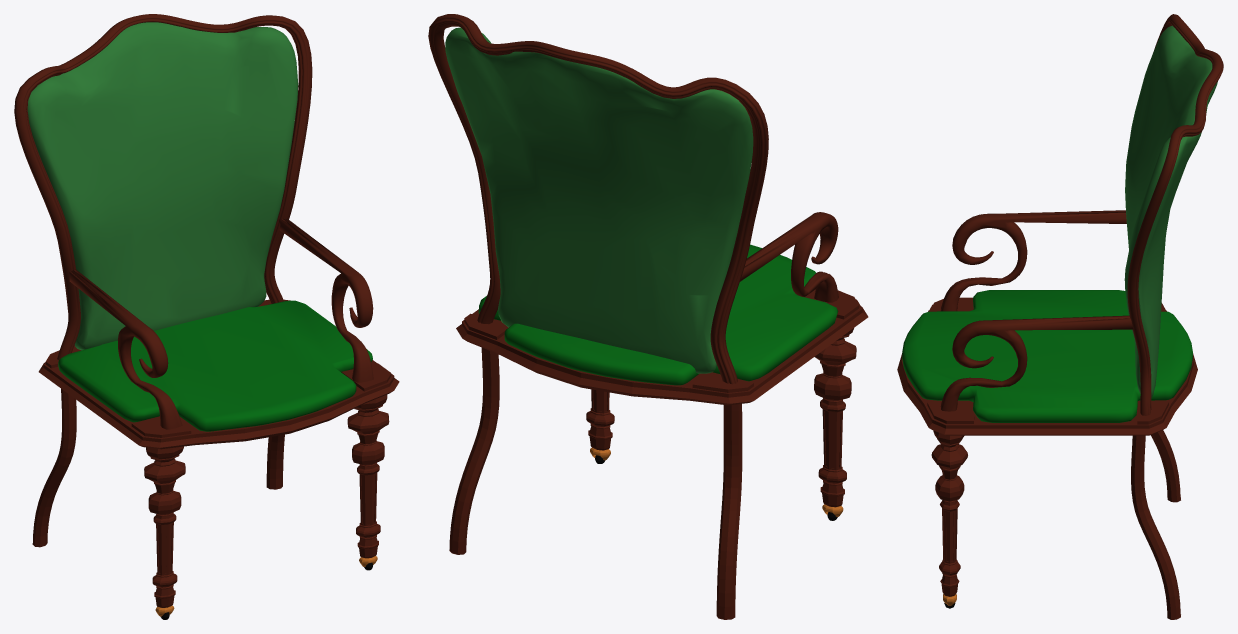
Rendered from chair.glb.
The picture shows the model from 3 angles, left to right: view 1: azimuth 30°, elevation 25°; view 2: azimuth 150°, elevation 25°; view 3: azimuth 270°, elevation 25°; orthographic projection. The views are drawn at different scales.
Parts seen in each view (by area): view 1: BézierCurve - backing_cushion._LP, chair_base_cushion._LP, BézierCurve - backing, arm_l_front_LP, leg_l_front, chair_base, leg_l_back; view 2: BézierCurve - backing_cushion._LP, chair_base_cushion._LP, BézierCurve - backing, chair_base, leg_l_back, leg_l_front, arm_l_front_LP; view 3: chair_base_cushion._LP, BézierCurve - backing_cushion._LP, arm_l_front_LP, chair_base, BézierCurve - backing, leg_l_back, leg_l_front.
Boxes of the visible parts, x1,y1,x2,y2 form: BézierCurve - backing_cushion._LP: (27,22,298,350); chair_base_cushion._LP: (58,300,372,431); BézierCurve - backing: (14,14,312,359); arm_l_front_LP: (69,218,373,429); leg_l_front: (144,394,389,607); chair_base: (38,299,399,449); leg_l_back: (32,389,284,547); BézierCurve - backing_cushion._LP: (445,27,753,373); chair_base_cushion._LP: (478,244,838,385); BézierCurve - backing: (428,14,768,384); chair_base: (456,289,868,405); leg_l_back: (449,347,742,619); leg_l_front: (586,328,856,507); arm_l_front_LP: (740,212,838,302); chair_base_cushion._LP: (902,290,1192,422); BézierCurve - backing_cushion._LP: (1124,25,1217,397); arm_l_front_LP: (940,210,1133,411); chair_base: (897,297,1197,435); BézierCurve - backing: (1127,14,1223,415); leg_l_back: (1131,430,1180,619); leg_l_front: (931,430,967,596).
Size of the model in its own units: 0.7454 by 1.17 by 0.699.
